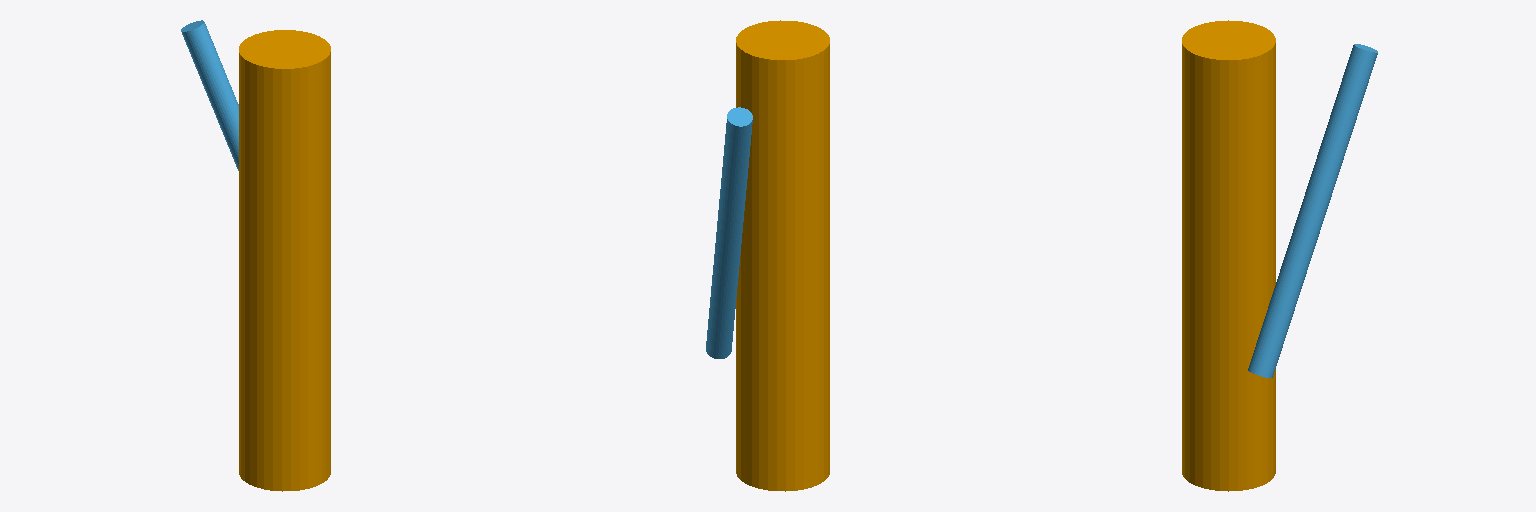
robot.urdf — pepe:
<?xml version="1.0"?><robot name="pepe">
	<link name="0">
		<visual>
			<geometry>
				<cylinder length="2.8219324425915286" radius="0.2802727606231159"/>
			</geometry>
		</visual>
		<collision>
			<geometry>
				<cylinder length="2.8219324425915286" radius="0.2802727606231159"/>
			</geometry>
		</collision>
		<inertial>
			<mass value="0.6963992066119021"/>
			<inertia ixx="0.03" iyy="0.03" izz="0.03" ixy="0" ixz="0" iyx="0"/>
		</inertial>
	</link>
	<link name="11">
		<visual>
			<geometry>
				<cylinder length="2.0599036324611886" radius="0.077097761671295"/>
			</geometry>
		</visual>
		<collision>
			<geometry>
				<cylinder length="2.0599036324611886" radius="0.077097761671295"/>
			</geometry>
		</collision>
		<inertial>
			<mass value="0.03846629123784332"/>
			<inertia ixx="0.03" iyy="0.03" izz="0.03" ixy="0" ixz="0" iyx="0"/>
		</inertial>
	</link>
	<joint name="11_to_0" type="revolute">
		<parent link="0"/>
		<child link="11"/>
		<axis xyz="0 1 0"/>
		<limit effort="1" upper="-3.1415" lower="3.1415" velocity="1"/>
		<origin rpy="3.4300187434820724 0.2853082720964179 3.064122128781616" xyz="0.07896930179295569 0.4997641074958179 0.33133635138239204"/>
	</joint>
</robot>

--- Render facts (derived) ---
Views: 3 orthographic renders of the robot side by side, from view 1: azimuth 30°, elevation 25°; view 2: azimuth 150°, elevation 25°; view 3: azimuth 270°, elevation 25°.
Robot: pepe — 2 links, 1 joints (1 revolute); root link 0; default pose: every joint at zero.
Links seen in each view (by area): view 1: 0, 11; view 2: 0, 11; view 3: 0, 11.
Boxes of the visible links, x1,y1,x2,y2 form: 0: (239,30,330,491); 11: (181,20,238,170); 0: (736,20,829,491); 11: (706,107,752,358); 0: (1182,20,1275,491); 11: (1248,44,1377,377).
Size in the robot's own frame: 0.6883 by 1.17 by 2.82 metres.
Geometry: primitives only (box / cylinder / sphere), no mesh files.
